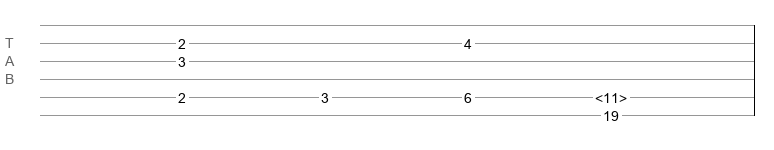19: (603, 108, 619, 118)
2: (178, 90, 186, 100), (178, 36, 186, 46)
3: (178, 54, 186, 64), (321, 90, 329, 100)
4: (464, 36, 472, 46)
6: (464, 90, 472, 100)
harmonic: (595, 90, 627, 100)
